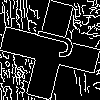J: (25, 25, 75, 60)
